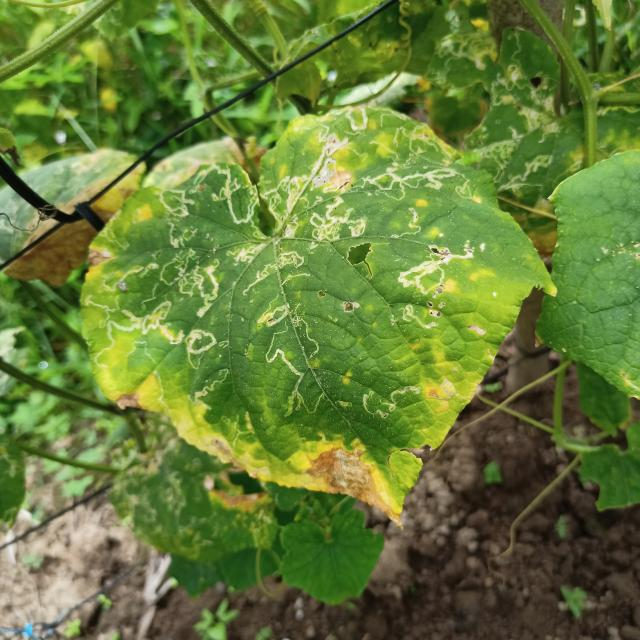disease_cucumber: (83, 340, 269, 480), (416, 269, 516, 446), (273, 427, 412, 533)
